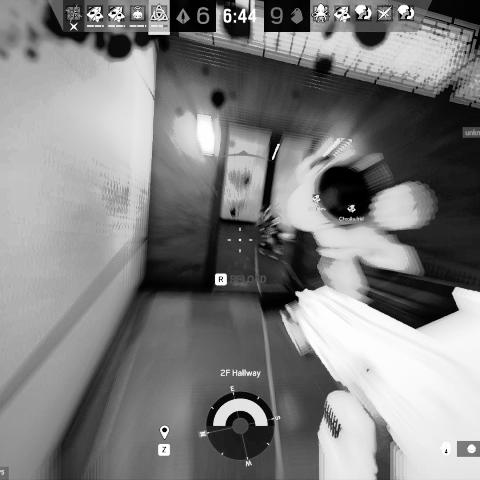Character: (256, 204, 288, 264)
Friend_label: (339, 204, 364, 222), (306, 193, 326, 212)
Head: (258, 204, 272, 218)
